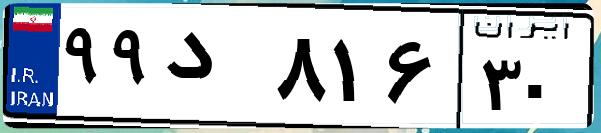0: (525, 38, 570, 115)
1: (330, 28, 385, 110)
3: (475, 38, 525, 113)
6: (385, 28, 445, 110)
8: (270, 28, 330, 110)
9: (57, 26, 110, 100), (110, 28, 158, 98)
د: (158, 20, 270, 120)
